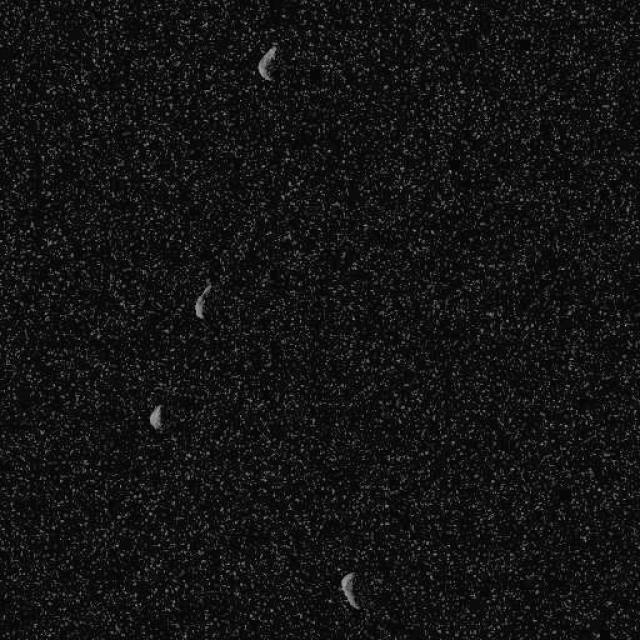D2: (339, 570, 360, 610), (256, 44, 278, 81), (192, 282, 212, 320), (148, 402, 164, 430)
